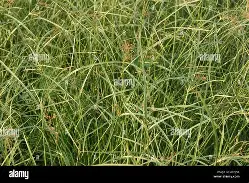weed: (0, 0, 248, 165)
